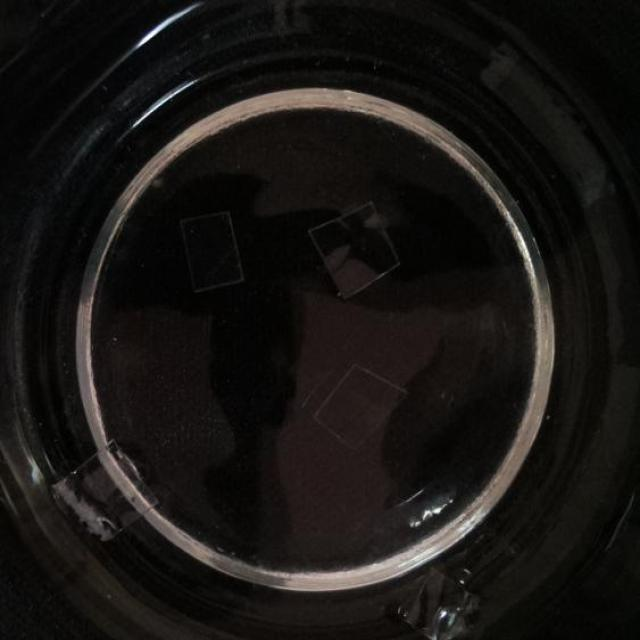fiber: (48, 436, 158, 540), (310, 201, 399, 295), (315, 360, 408, 449), (394, 568, 477, 640), (177, 212, 247, 290), (390, 482, 459, 532)
